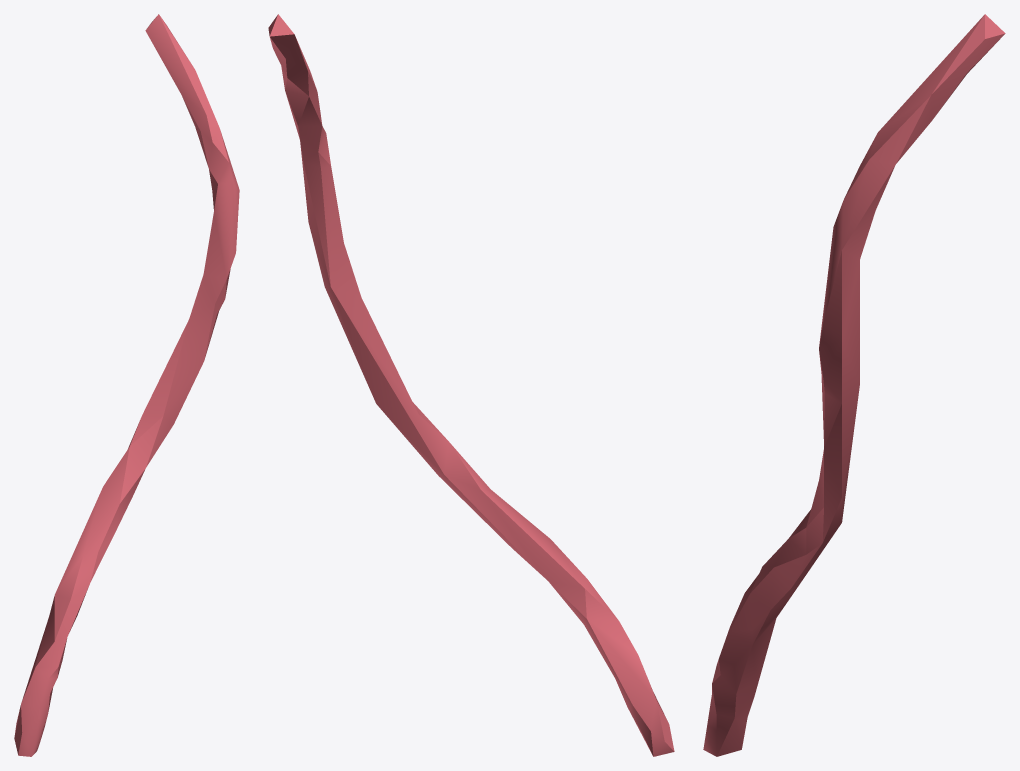
The model's file is fma50520_fj1710m.glb.
3 views of the same model, side by side, from view 1: azimuth 30°, elevation 25°; view 2: azimuth 150°, elevation 25°; view 3: azimuth 270°, elevation 25° (orthographic). The views are drawn at different scales.
Visible parts, largest first — view 1: FMA50520_FJ1710M; view 2: FMA50520_FJ1710M; view 3: FMA50520_FJ1710M.
Part boxes in pixels (left/top/right/bottom): FMA50520_FJ1710M: left=14, top=14, right=239, bottom=756; FMA50520_FJ1710M: left=268, top=14, right=674, bottom=756; FMA50520_FJ1710M: left=703, top=14, right=1005, bottom=756.
Bounding box in the file's own units: 0.00495 × 0.011 × 0.00338.
